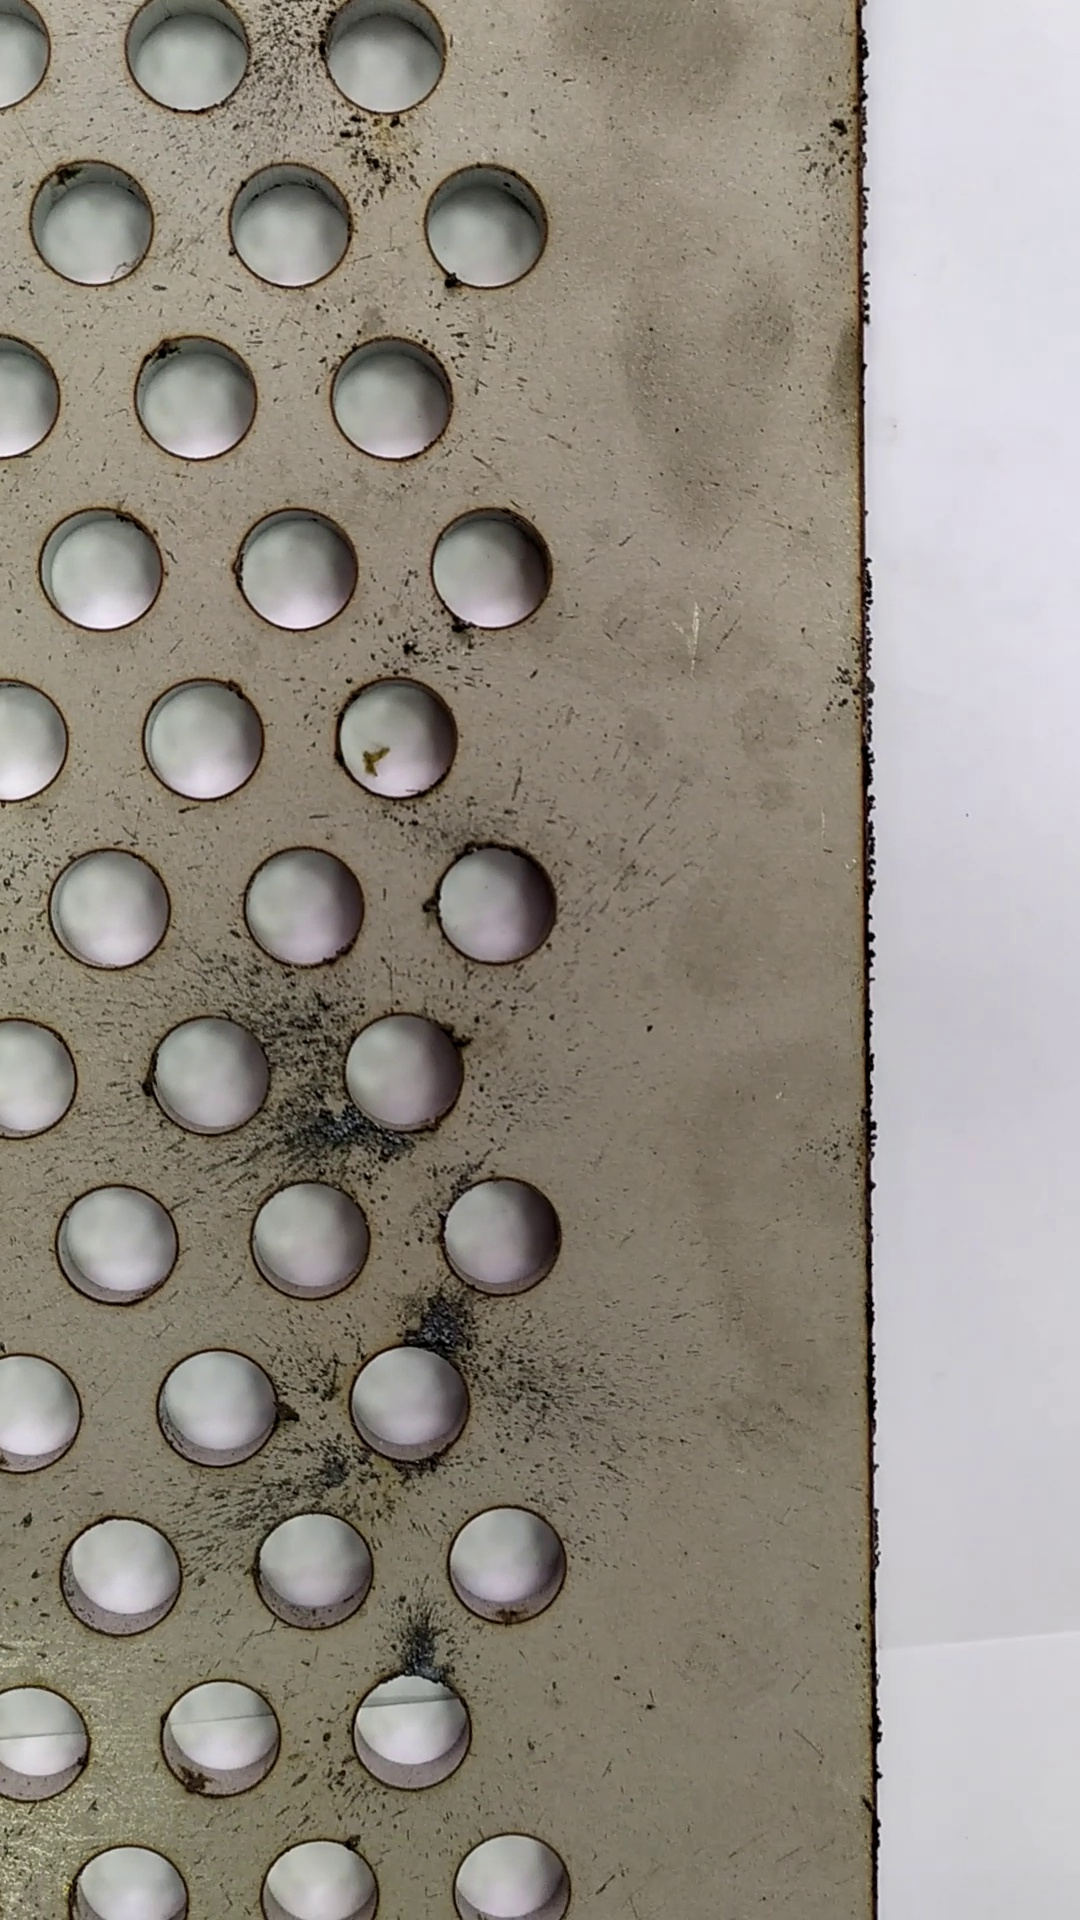Hole: (429, 1491, 591, 1636), (316, 326, 467, 473), (18, 150, 169, 297), (330, 1005, 495, 1138), (232, 1501, 386, 1640), (216, 154, 369, 293), (334, 1668, 492, 1801), (131, 666, 273, 814), (32, 840, 179, 982), (419, 498, 568, 640), (434, 1168, 585, 1307), (320, 665, 469, 804), (47, 1174, 196, 1313), (410, 156, 564, 289), (229, 837, 381, 971), (124, 326, 265, 468), (138, 1005, 281, 1145), (425, 836, 568, 975), (28, 498, 173, 636), (237, 1175, 378, 1313), (44, 1515, 196, 1642), (146, 1338, 285, 1477), (228, 502, 371, 636), (340, 1338, 481, 1470), (145, 1676, 291, 1803)
